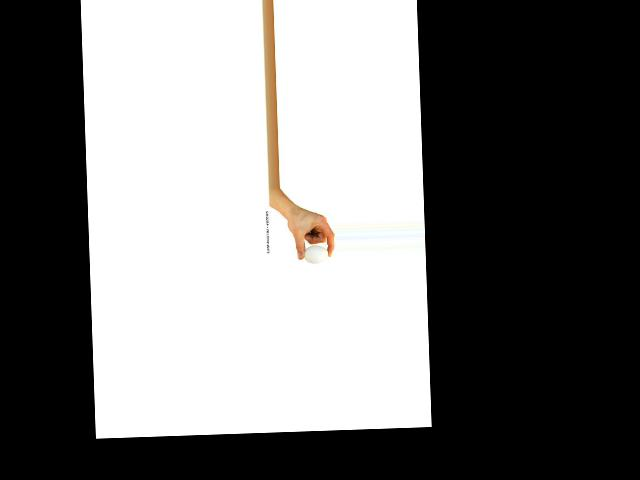egg: (303, 244, 328, 263)
